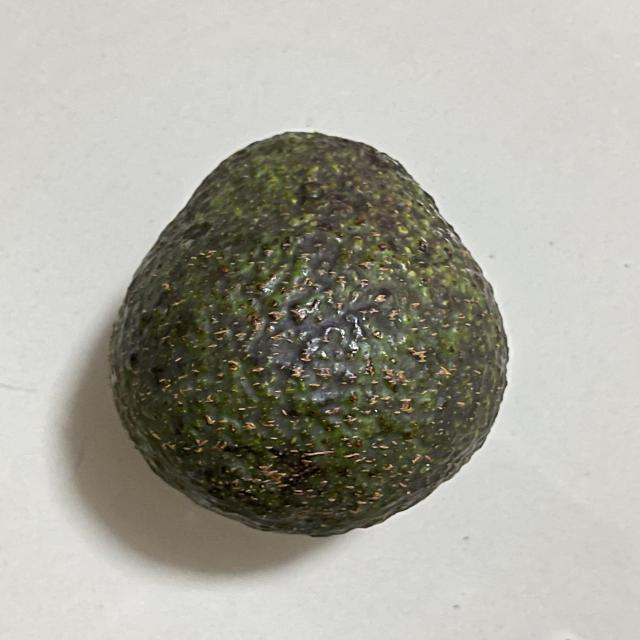avocado: (93, 114, 537, 555)
